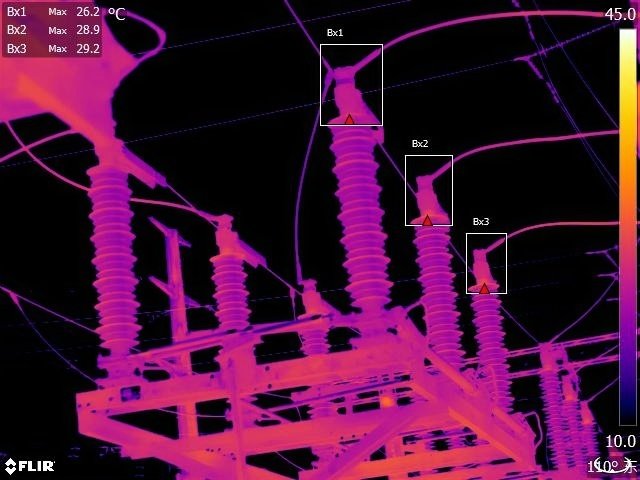post insulator: (328, 109, 402, 308), (86, 157, 148, 353), (411, 209, 468, 375), (467, 282, 516, 411), (209, 247, 260, 328), (301, 311, 338, 422), (539, 367, 572, 473), (563, 393, 585, 466), (579, 417, 603, 473)
switch: (83, 112, 176, 191), (328, 60, 390, 148), (211, 204, 270, 271), (293, 265, 346, 318), (413, 174, 454, 231), (466, 246, 503, 294)
